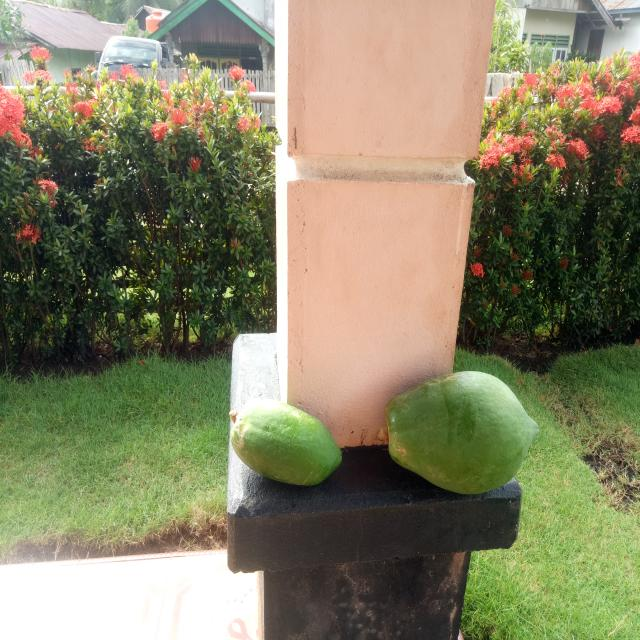Pepaya unrippen: (386, 364, 547, 498), (218, 397, 344, 484)
